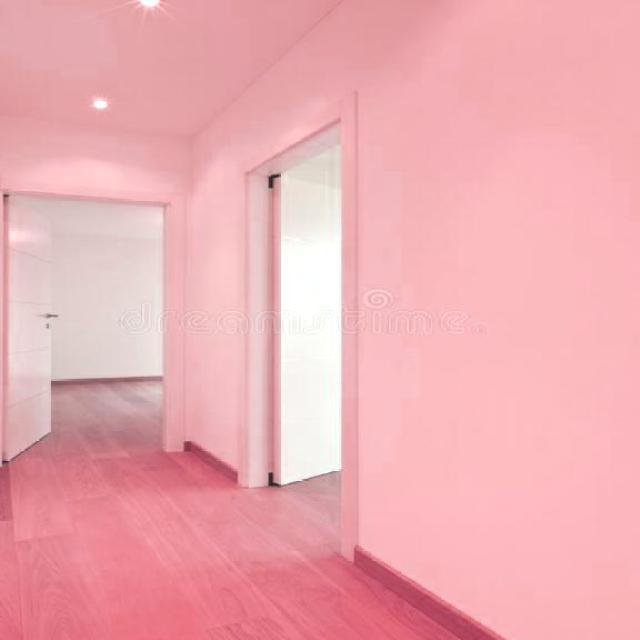door: (0, 168, 55, 465)
